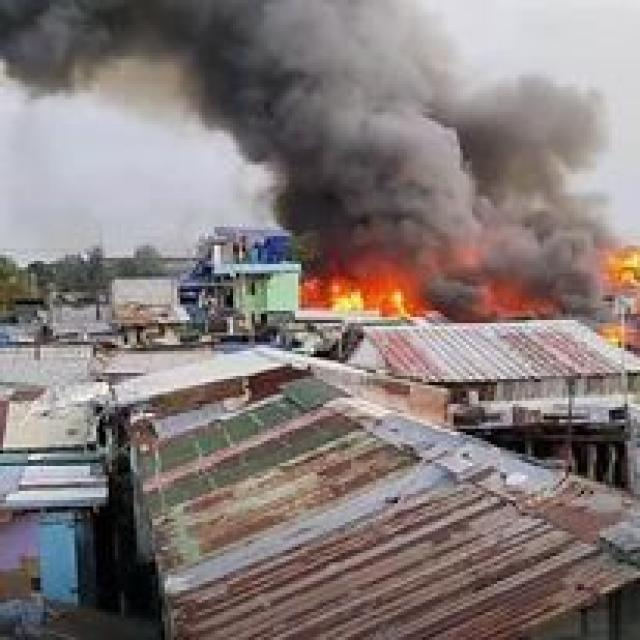Fire: (309, 268, 436, 316), (487, 280, 550, 314), (612, 246, 640, 286)
Smoke: (284, 80, 626, 272), (10, 0, 401, 104)
